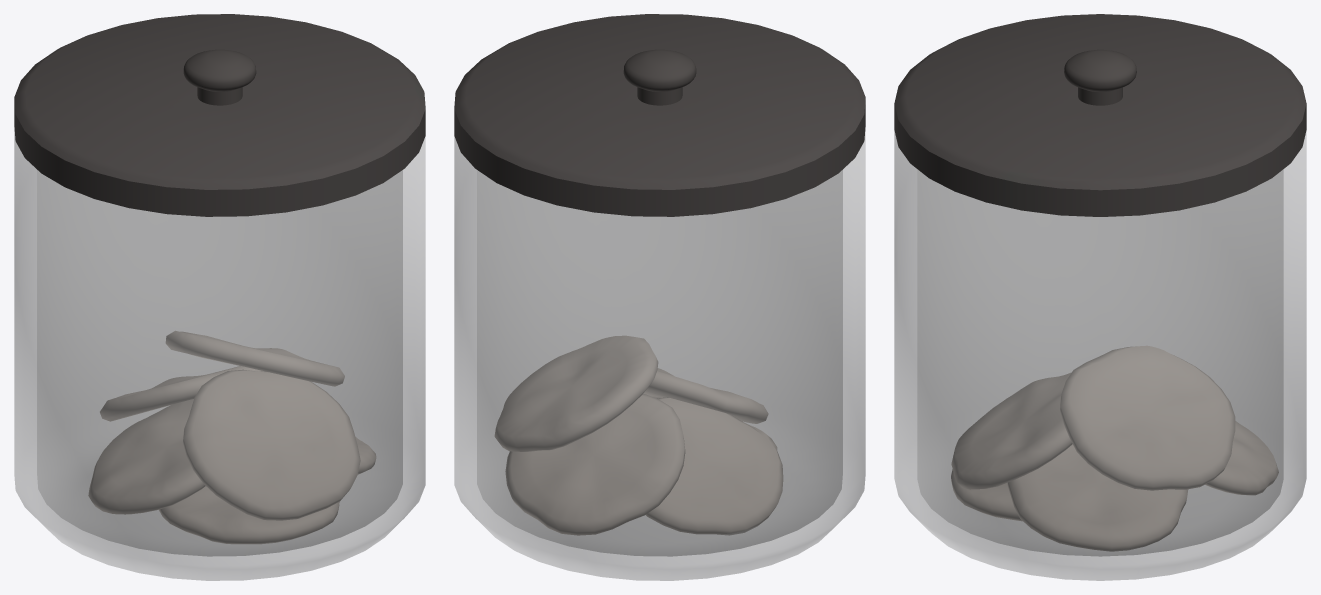
The model's file is Assets.fbx_Keksglas.fbx.
3 renders of one model, left to right at view 1: azimuth 30°, elevation 25°; view 2: azimuth 150°, elevation 25°; view 3: azimuth 270°, elevation 25°, orthographic.
Visible parts, largest first — view 1: Glas.003, Deckel.003, Cylinder.020, Cylinder.019, Kekse, Cylinder.022, Cylinder.021; view 2: Glas.003, Deckel.003, Cylinder.021, Cylinder.019, Cylinder.022, Cylinder.020; view 3: Glas.003, Deckel.003, Cylinder.022, Cylinder.018, Cylinder.020, Cylinder.021, Kekse.
Part boxes in pixels (bbox=[...]): Glas.003: bbox=[14, 128, 425, 580]; Deckel.003: bbox=[14, 14, 425, 216]; Cylinder.020: bbox=[183, 369, 360, 520]; Cylinder.019: bbox=[88, 399, 205, 514]; Kekse: bbox=[159, 486, 339, 543]; Cylinder.022: bbox=[165, 331, 344, 386]; Cylinder.021: bbox=[100, 366, 264, 421]; Glas.003: bbox=[454, 128, 865, 580]; Deckel.003: bbox=[454, 14, 865, 216]; Cylinder.021: bbox=[505, 394, 685, 535]; Cylinder.019: bbox=[646, 397, 783, 535]; Cylinder.022: bbox=[494, 335, 658, 451]; Cylinder.020: bbox=[643, 368, 768, 423]; Glas.003: bbox=[894, 131, 1306, 580]; Deckel.003: bbox=[894, 14, 1306, 216]; Cylinder.022: bbox=[1060, 345, 1235, 490]; Cylinder.018: bbox=[1007, 444, 1187, 551]; Cylinder.020: bbox=[951, 373, 1072, 489]; Cylinder.021: bbox=[1205, 421, 1278, 495]; Kekse: bbox=[951, 469, 1022, 521].
Bounding box in the file's own units: 18.22 × 21.81 × 18.22.
